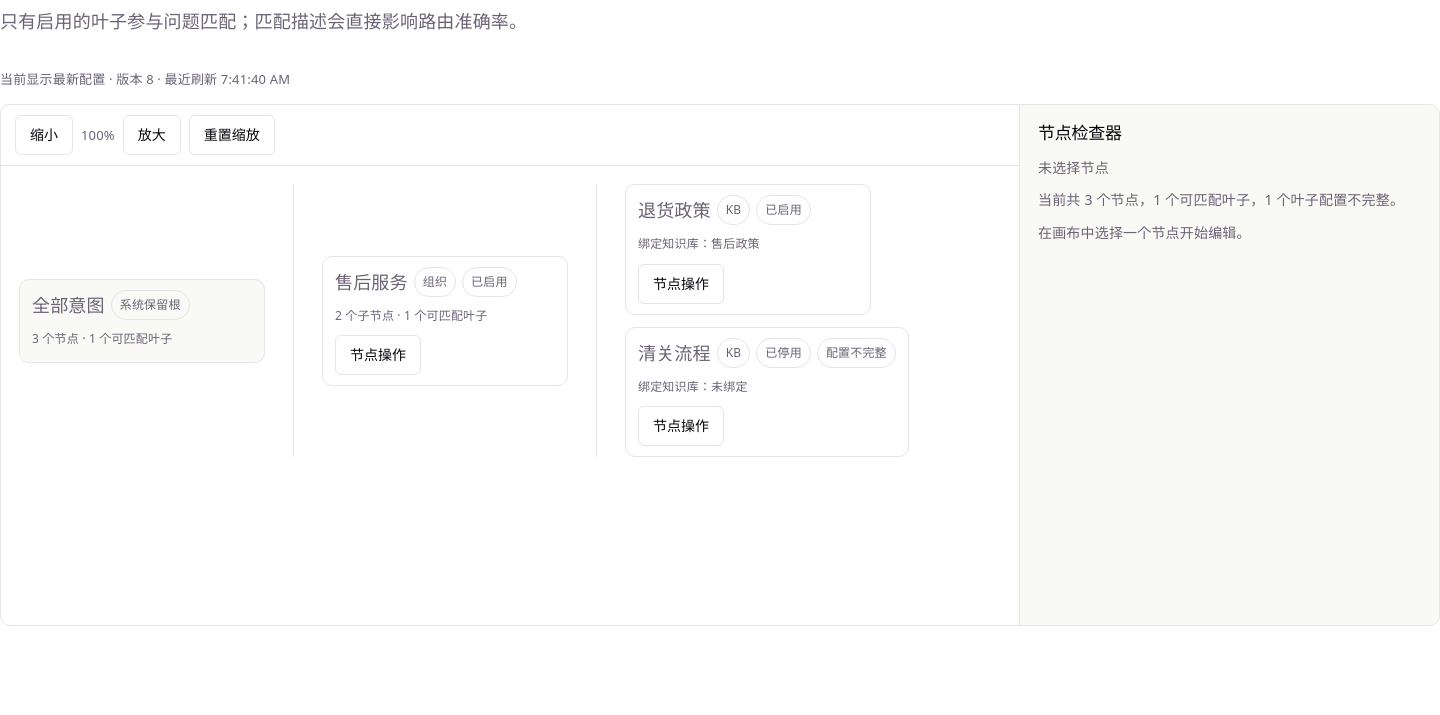
Test: 意图树 C — 画布与检查器 › 保存节点带 expectedRevisionId，成功后用返回的完整快照原子替换
Click the list item with aria-label "退货政策 · KB · 已启用". click: (767, 250)
box: top-left (625, 184), bottom-right (909, 315)
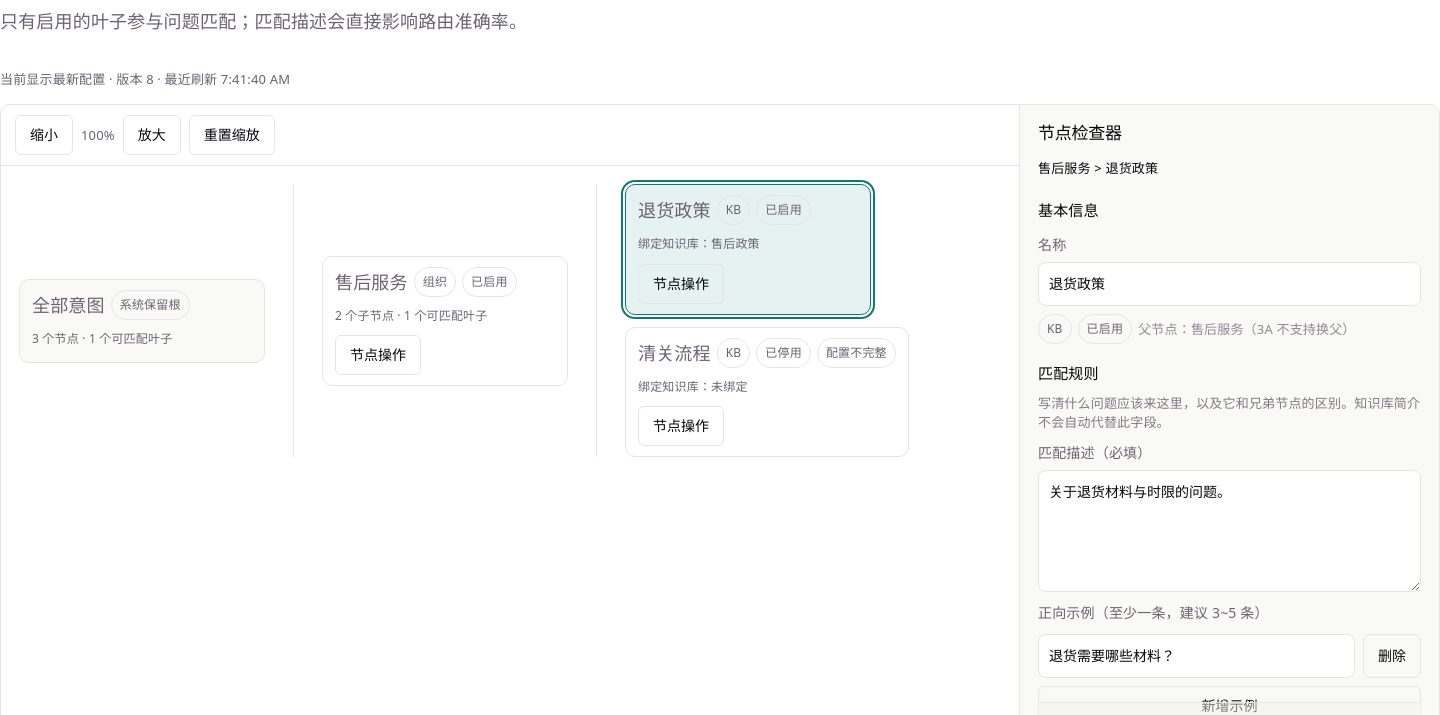
Replace the text in the field named "节点名称" with "退货与退款政策". click: (1230, 284)
box: top-left (1038, 262), bottom-right (1421, 306)
(page scrolled)
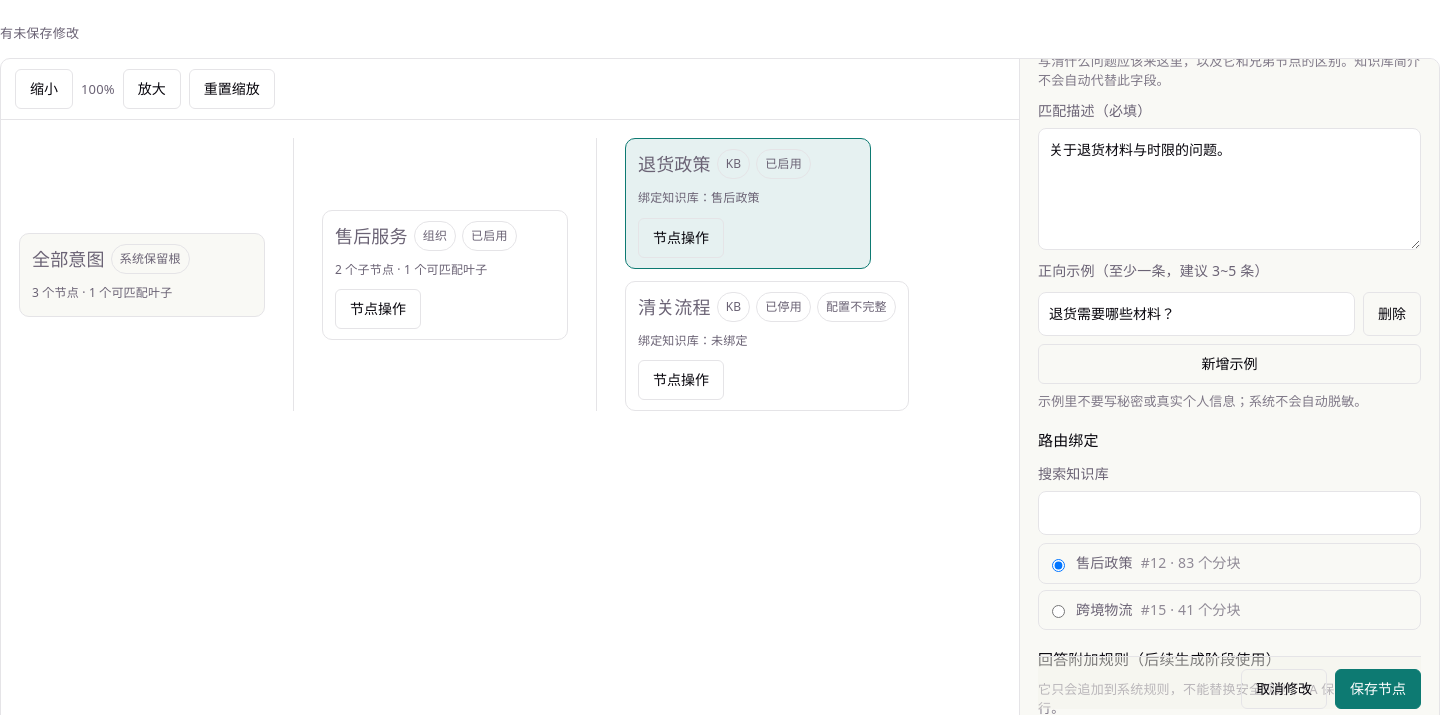
Expected: the text "有未保存修改" is shown, top-left (0, 24), bottom-right (79, 42)
Click the button "保存节点". click: (1378, 689)
box: top-left (1335, 669), bottom-right (1421, 709)
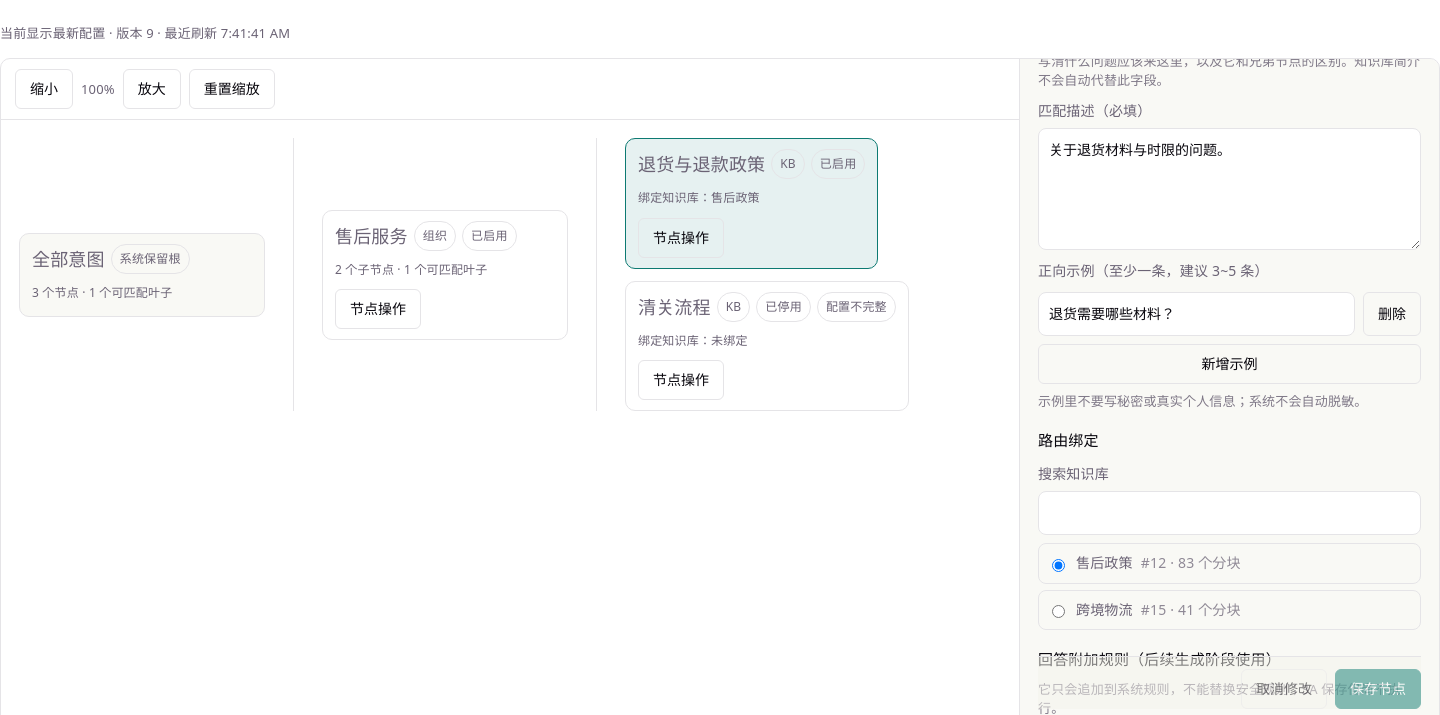
Expected: the text "当前显示最新配置 · 版本 9 · 最近刷新 7:41:41 AM" is shown, top-left (0, 24), bottom-right (290, 42)
Expected: the list item with aria-label "退货与退款政策 · KB · 已启用" is shown, top-left (625, 138), bottom-right (909, 269)
